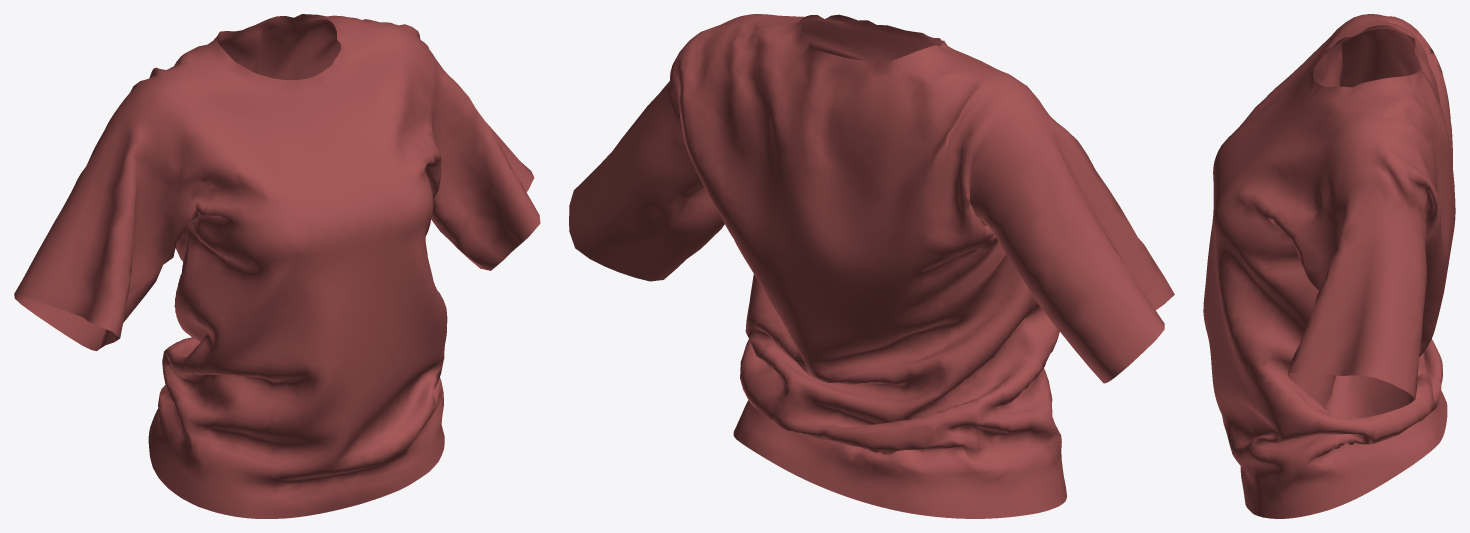
Rendered from femS.glb.
3 renders of one model, left to right at view 1: azimuth 30°, elevation 25°; view 2: azimuth 150°, elevation 25°; view 3: azimuth 270°, elevation 25°, orthographic. The views are drawn at different scales.
Parts seen in each view (by area): view 1: pink tshirt _F_sleeves_FRONT_296373_0; view 2: pink tshirt _F_sleeves_FRONT_296373_0; view 3: pink tshirt _F_sleeves_FRONT_296373_0.
Part boxes in pixels (<box>): pink tshirt _F_sleeves_FRONT_296373_0: <box>14,14,540,518</box>; pink tshirt _F_sleeves_FRONT_296373_0: <box>569,14,1174,518</box>; pink tshirt _F_sleeves_FRONT_296373_0: <box>1203,14,1455,518</box>.
Bounding box in the file's own units: 0.6851 × 0.5487 × 0.2927.
